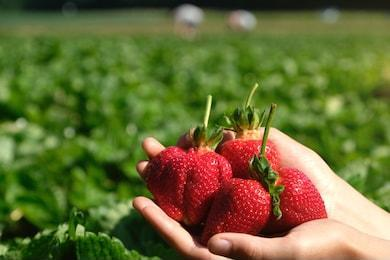Fresa: (142, 140, 236, 227), (201, 170, 276, 249), (265, 163, 333, 232), (212, 129, 283, 182)
